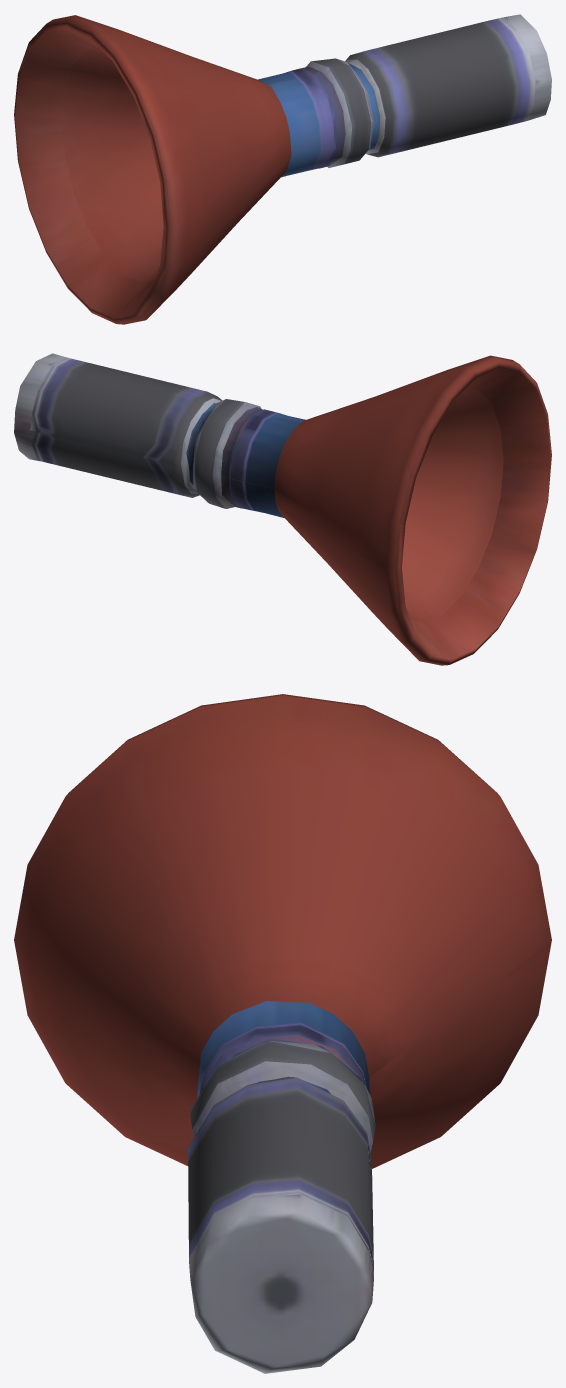
File: XIYOUQI001.glb
3 renders of one model, top to bottom at view 1: azimuth 30°, elevation 25°; view 2: azimuth 150°, elevation 25°; view 3: azimuth 270°, elevation 25°, orthographic. The views are drawn at different scales.
Parts seen in each view (by area): view 1: StaticMesh001; view 2: StaticMesh001; view 3: StaticMesh001.
Boxes of the visible parts, left/top/right/bottom form: StaticMesh001: left=14, top=14, right=551, bottom=324; StaticMesh001: left=14, top=353, right=551, bottom=665; StaticMesh001: left=14, top=694, right=551, bottom=1373.
Size of the model in its own units: 2.07 by 1.3 by 1.3.
Materials: 2 (2 with a texture image).
